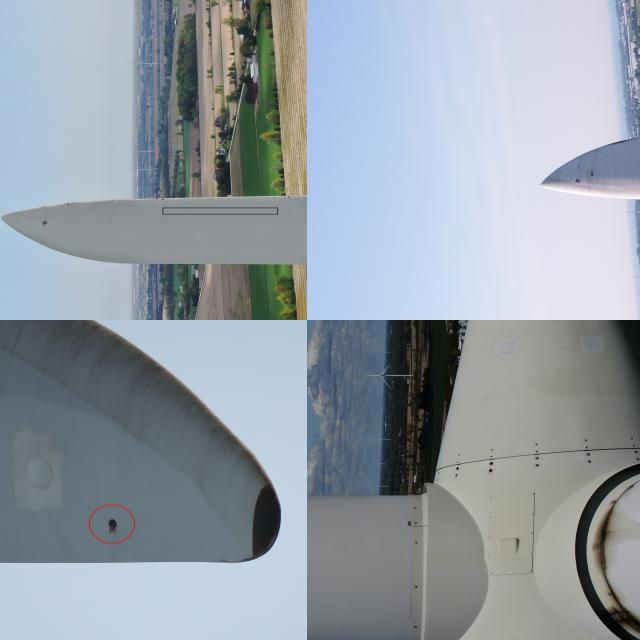damage: (575, 498, 639, 569), (596, 583, 639, 639), (105, 512, 121, 532), (64, 200, 82, 206), (588, 170, 598, 178), (36, 204, 50, 208)
